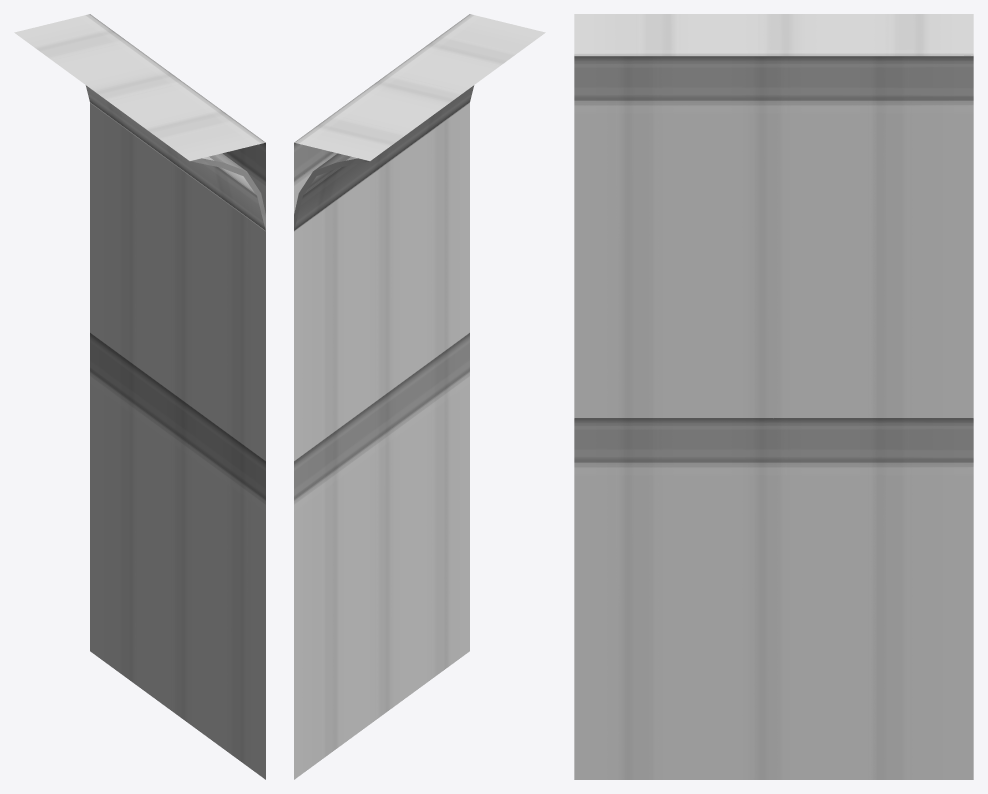
Rendered from spaceStation_wall_d.fbx.
3 renders of one model, left to right at view 1: azimuth 30°, elevation 25°; view 2: azimuth 150°, elevation 25°; view 3: azimuth 270°, elevation 25°, orthographic. The views are drawn at different scales.
Visible parts, largest first — view 1: Plane; view 2: Plane; view 3: Plane.
Boxes of the visible parts, bbox=[...] form: Plane: bbox=[14, 14, 265, 779]; Plane: bbox=[294, 14, 545, 779]; Plane: bbox=[574, 14, 973, 779].
Size of the model in its own units: 1 by 8 by 4.
